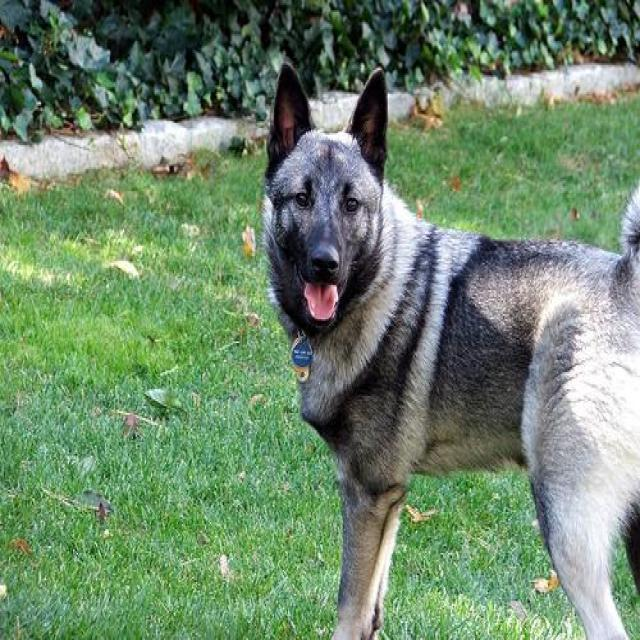happy: (236, 24, 422, 452)
